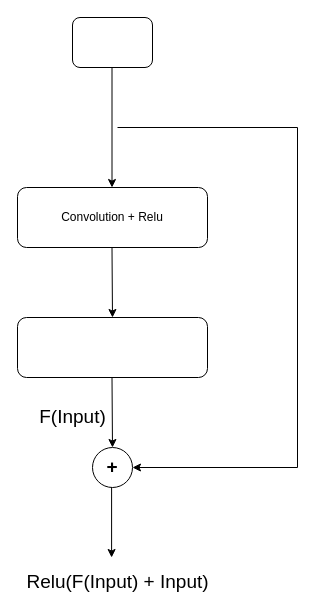
Image size: 323x615. Some labels were removed from this diagram. The centre of each missing label's shape, as x and y in pixels:
Convolution: the point at 112,347
Input: the point at 112,42
